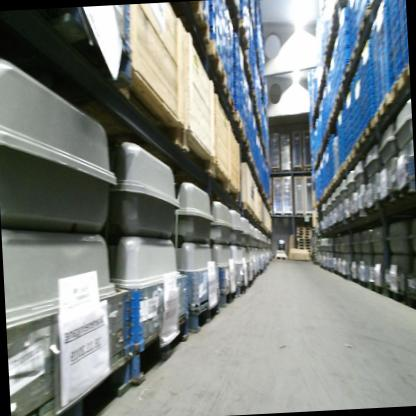pallet: (38, 8, 135, 91), (34, 350, 137, 416), (127, 307, 193, 392), (331, 267, 416, 316), (190, 36, 228, 89), (169, 3, 212, 43), (187, 294, 221, 337), (387, 62, 409, 104), (373, 95, 404, 123), (352, 6, 383, 34), (363, 116, 392, 142), (228, 20, 249, 50), (225, 107, 246, 136), (376, 187, 398, 214), (218, 82, 236, 115), (393, 175, 415, 198), (217, 287, 239, 310), (351, 134, 368, 158), (386, 285, 403, 303), (364, 198, 380, 216), (350, 205, 366, 223), (372, 280, 387, 297), (335, 214, 350, 229), (235, 278, 246, 298), (357, 277, 373, 290), (243, 275, 255, 291), (347, 275, 361, 285), (274, 252, 288, 261), (295, 235, 310, 242), (296, 224, 310, 231), (295, 228, 311, 233), (318, 262, 328, 270), (297, 242, 310, 248), (270, 168, 281, 175), (295, 231, 310, 236), (326, 264, 333, 274), (293, 167, 303, 173), (296, 234, 310, 237), (297, 246, 311, 249), (297, 240, 310, 243), (304, 167, 310, 171), (305, 249, 312, 252)
